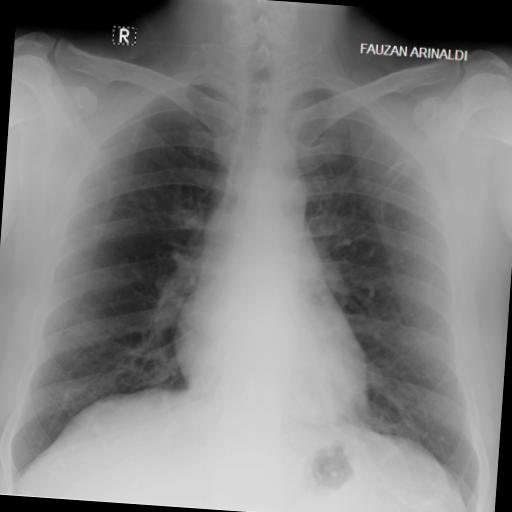normal: (0, 14, 512, 512)
